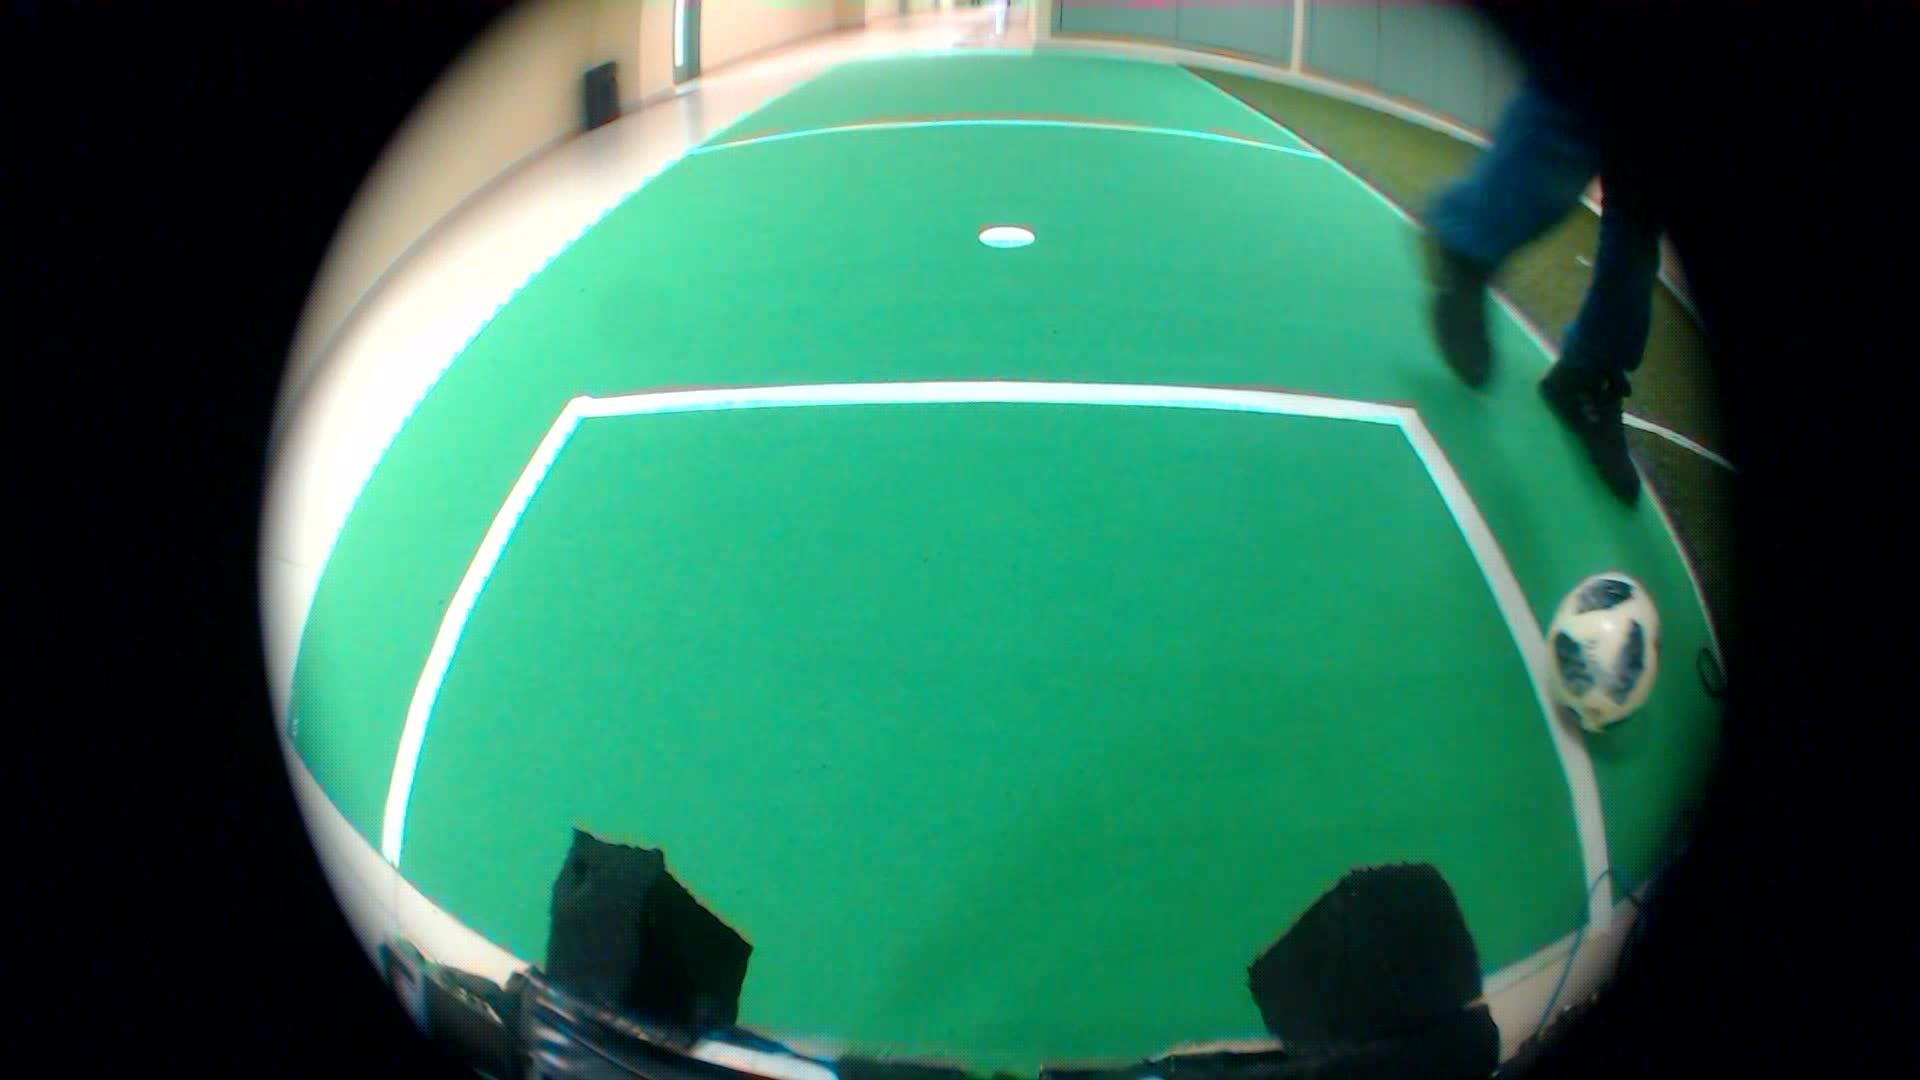ball: (1513, 554, 1669, 760)
